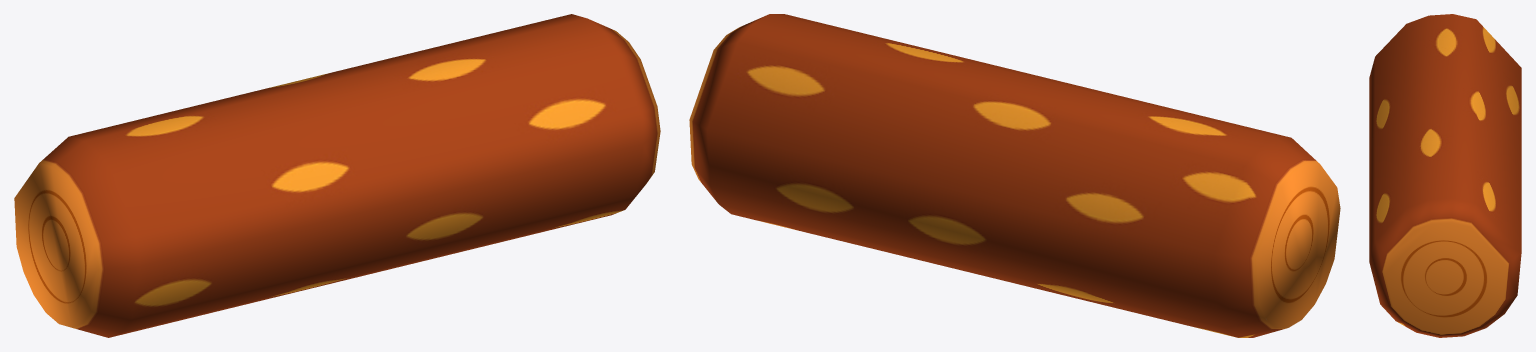
The model's file is LogLow.fbx.
3 renders of one model, left to right at view 1: azimuth 30°, elevation 25°; view 2: azimuth 150°, elevation 25°; view 3: azimuth 270°, elevation 25°, orthographic. The views are drawn at different scales.
Visible parts, largest first — view 1: Log; view 2: Log; view 3: Log.
Boxes of the visible parts, left/top/right/bottom form: Log: left=14, top=14, right=660, bottom=337; Log: left=689, top=14, right=1340, bottom=337; Log: left=1369, top=14, right=1521, bottom=337.
Bounding box in the file's own units: 3.38 × 1.06 × 1.05.
